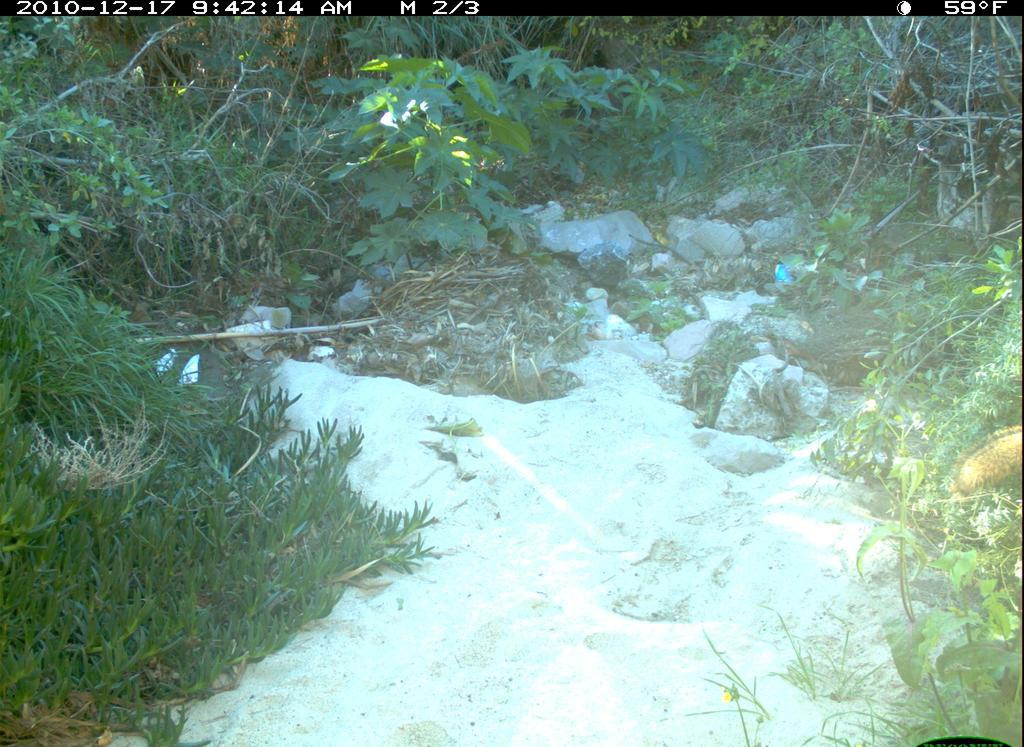squirrel: (950, 418, 1023, 500)
